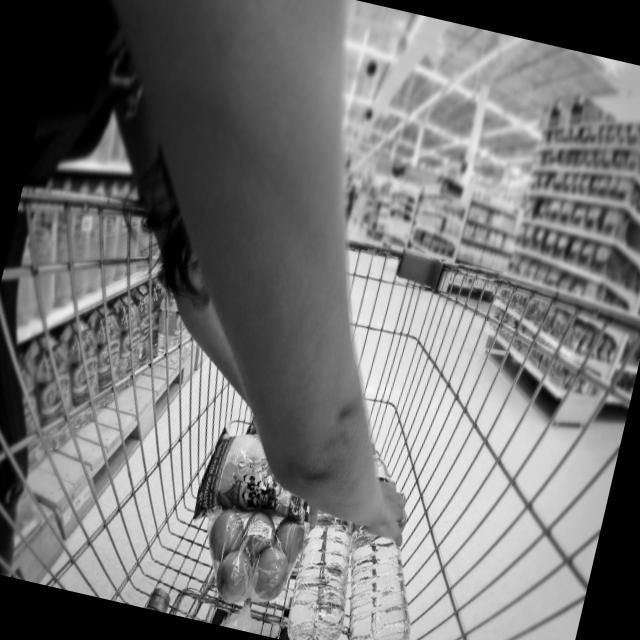apple: (194, 499, 306, 615)
